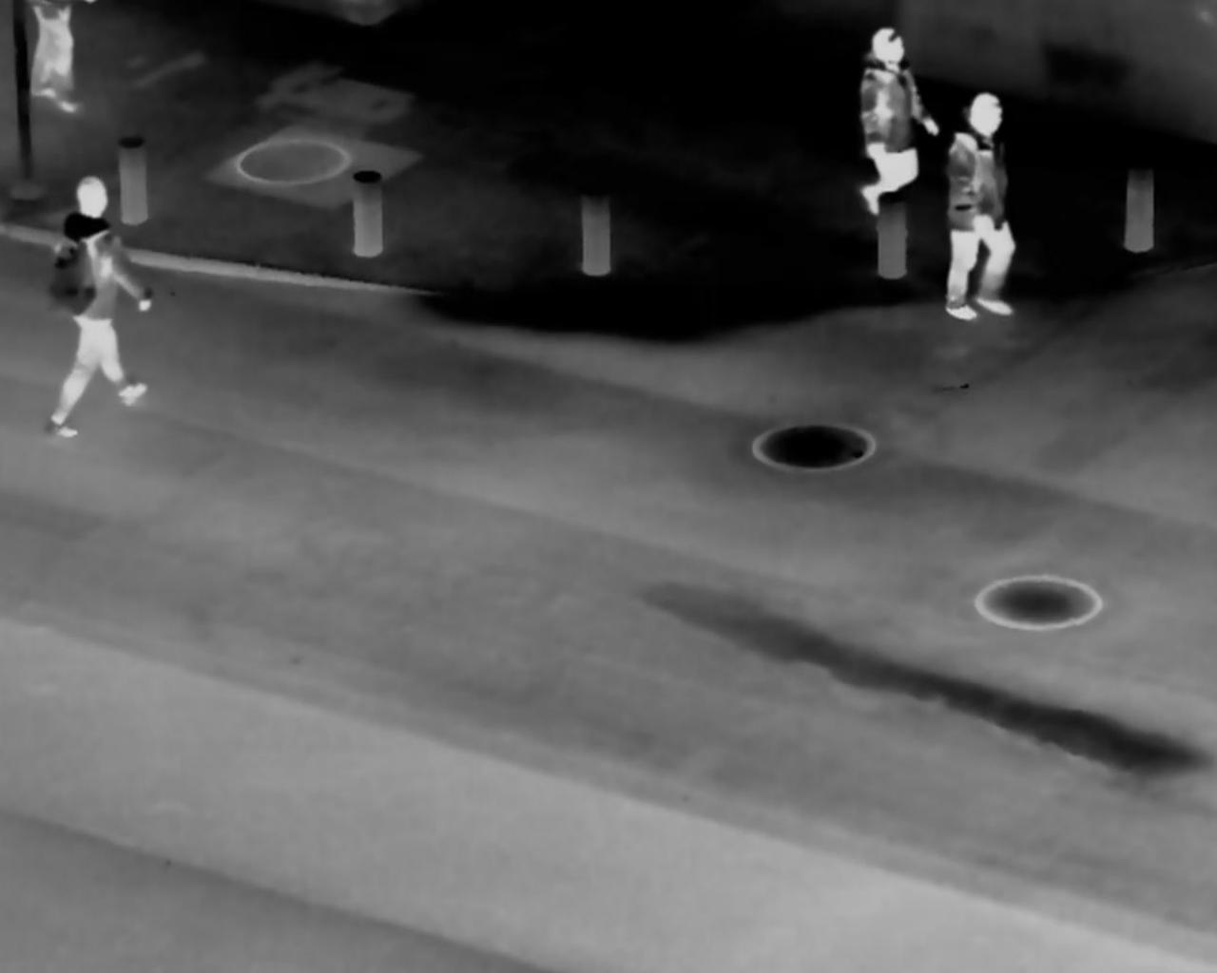person: (42, 164, 154, 451), (941, 78, 1018, 325), (851, 19, 937, 210)
